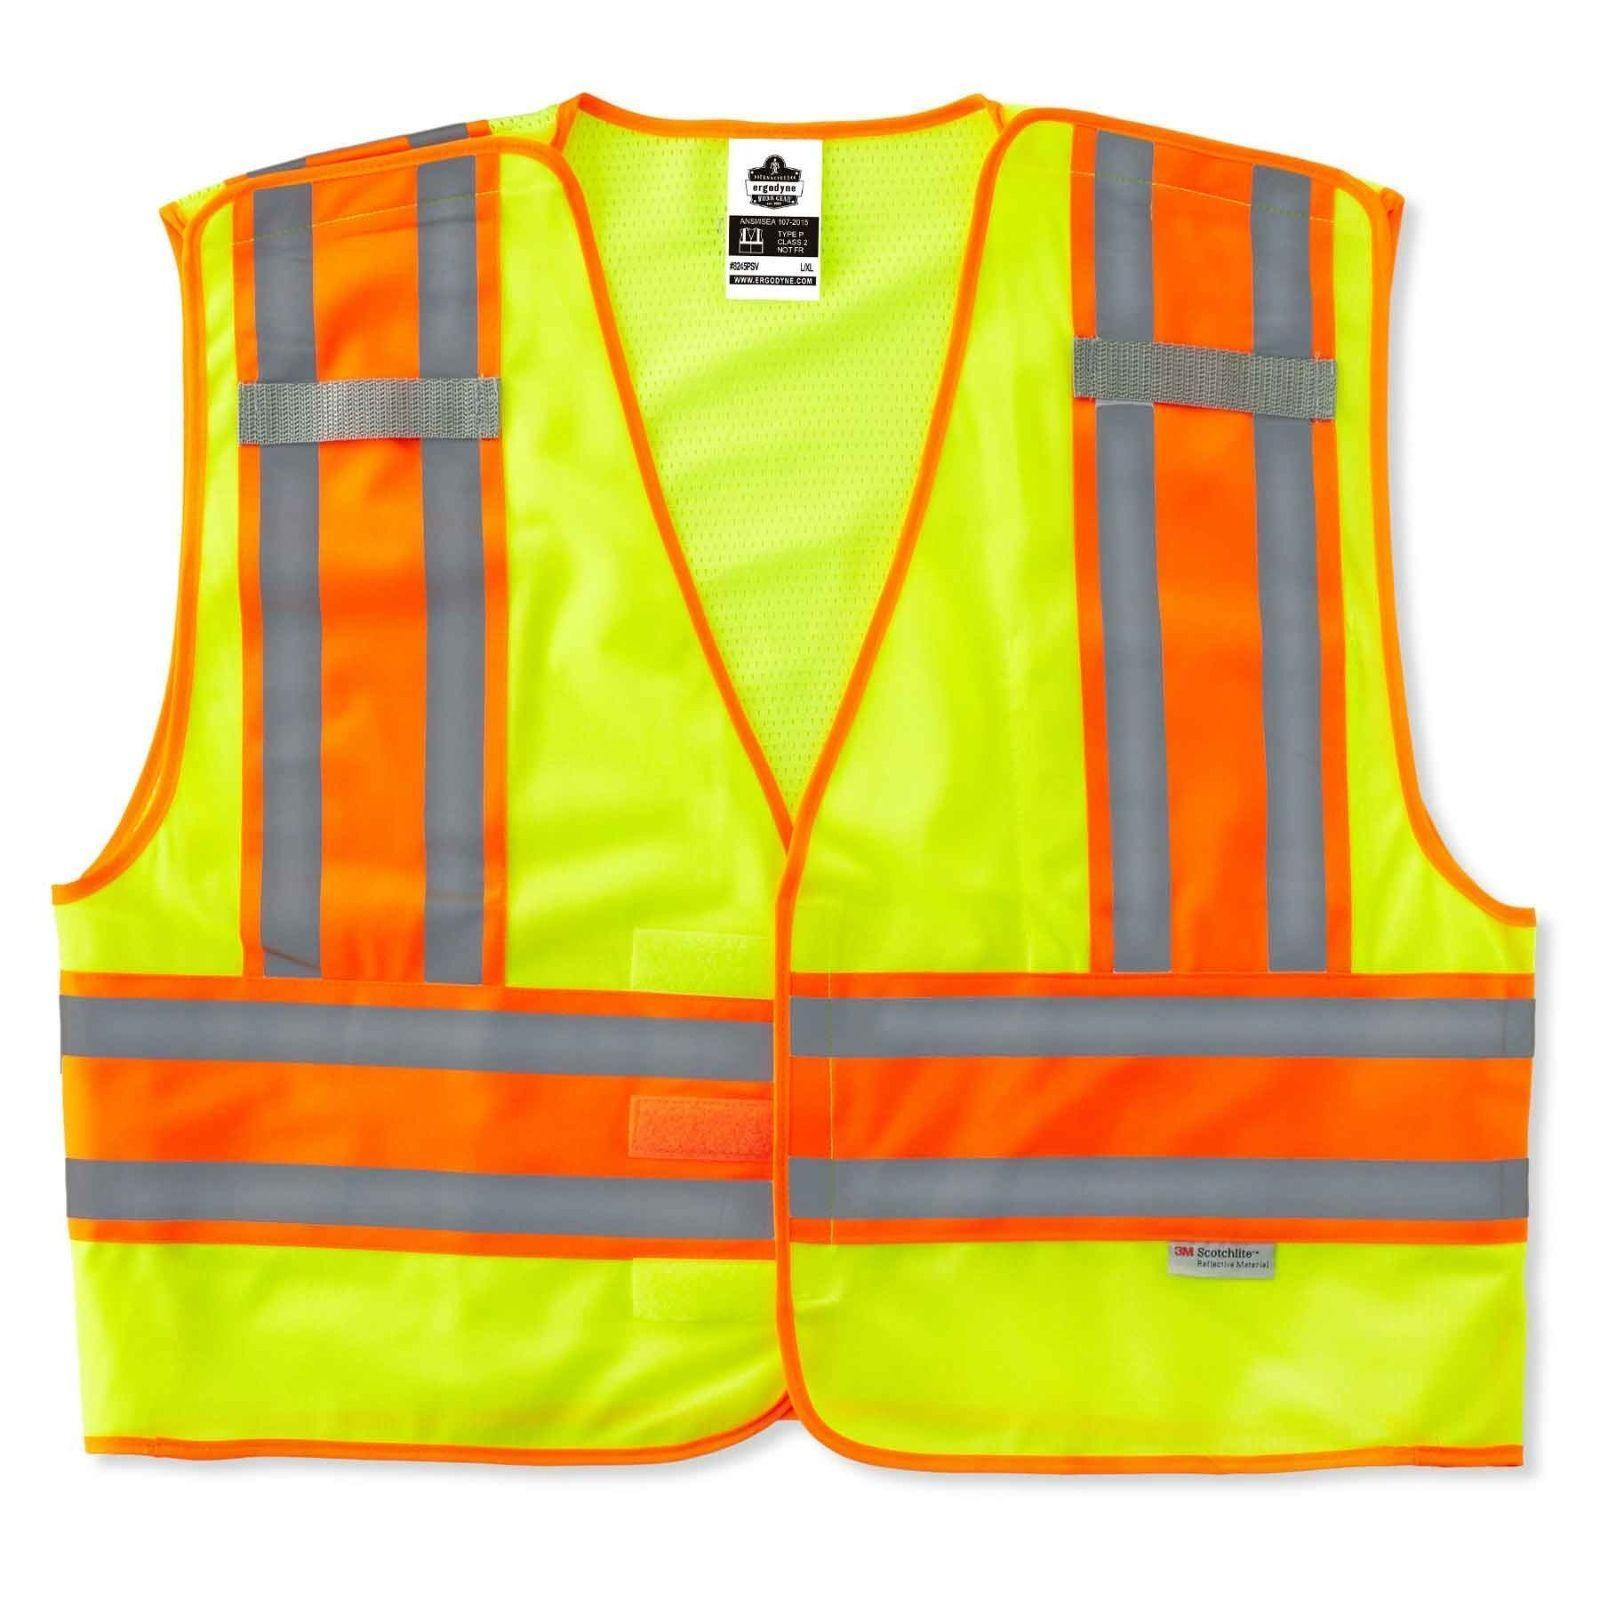vest: (42, 86, 1544, 1502)
